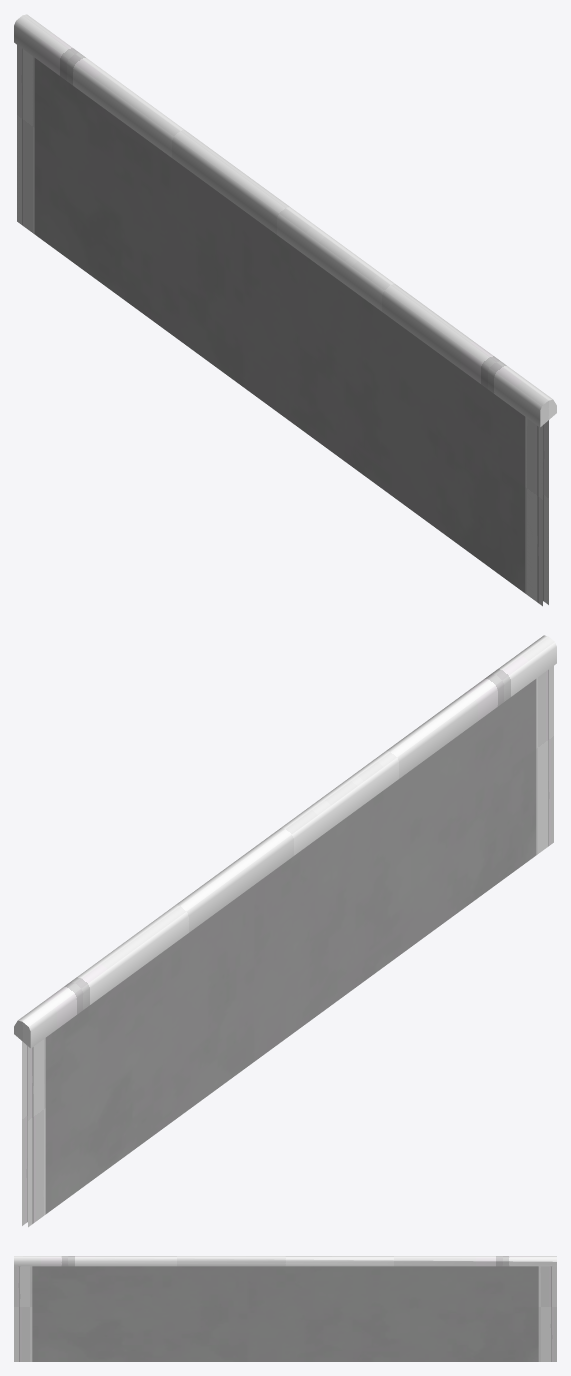
The model's file is CitWards_Railing5m_A.FBX.
3 views of the same model, one above another, from view 1: azimuth 30°, elevation 25°; view 2: azimuth 150°, elevation 25°; view 3: azimuth 270°, elevation 25° (orthographic). The views are drawn at different scales.
Visible parts, largest first — view 1: CitWards_Railing5m_A; view 2: CitWards_Railing5m_A; view 3: CitWards_Railing5m_A.
Boxes of the visible parts, <box> form: CitWards_Railing5m_A: <box>14,14,556,606</box>; CitWards_Railing5m_A: <box>14,635,556,1227</box>; CitWards_Railing5m_A: <box>14,1256,556,1361</box>.
Bounding box in the file's own units: 0.0921 × 1.07 × 5.
